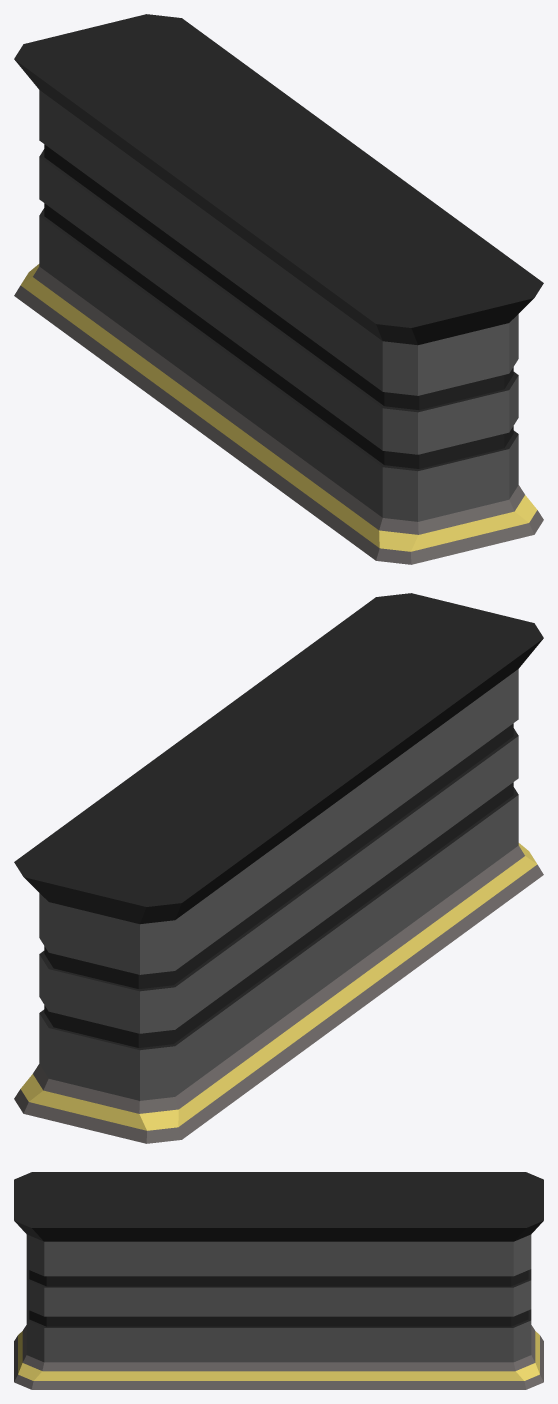
File: 1x4Pillar.fbx
The picture shows the model from 3 angles, top to bottom: view 1: azimuth 30°, elevation 25°; view 2: azimuth 150°, elevation 25°; view 3: azimuth 270°, elevation 25°; orthographic projection. The views are drawn at different scales.
Parts seen in each view (by area): view 1: 1x4Pillar; view 2: 1x4Pillar; view 3: 1x4Pillar.
Part boxes in pixels (<box>): 1x4Pillar: <box>14,14,543,564</box>; 1x4Pillar: <box>14,593,543,1143</box>; 1x4Pillar: <box>14,1172,543,1389</box>.
Size of the model in its own units: 200 by 269 by 800.
